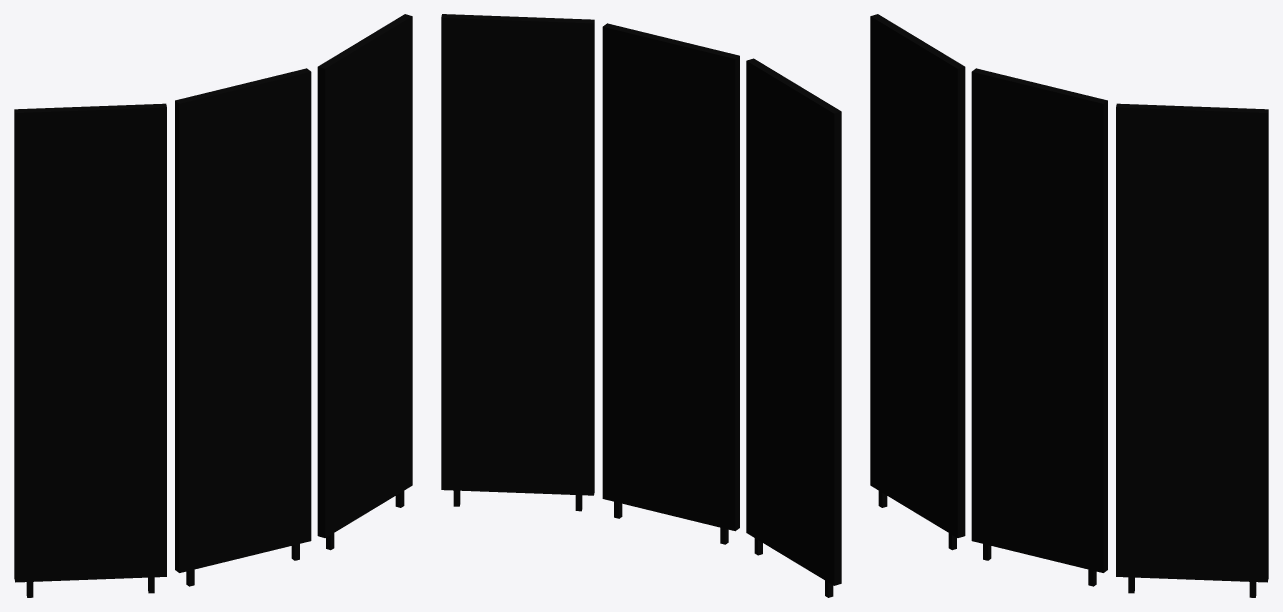
File: SM_screen_folding.fbx
The picture shows the model from 3 angles, left to right: view 1: azimuth 30°, elevation 25°; view 2: azimuth 150°, elevation 25°; view 3: azimuth 330°, elevation 25°; orthographic projection.
Visible parts, largest first — view 1: screen_folding; view 2: screen_folding; view 3: screen_folding.
Part boxes in pixels (<box>): screen_folding: <box>14,14,412,597</box>; screen_folding: <box>441,14,841,597</box>; screen_folding: <box>870,14,1268,597</box>.
Size of the model in its own units: 1.51 by 1.76 by 0.2385.
